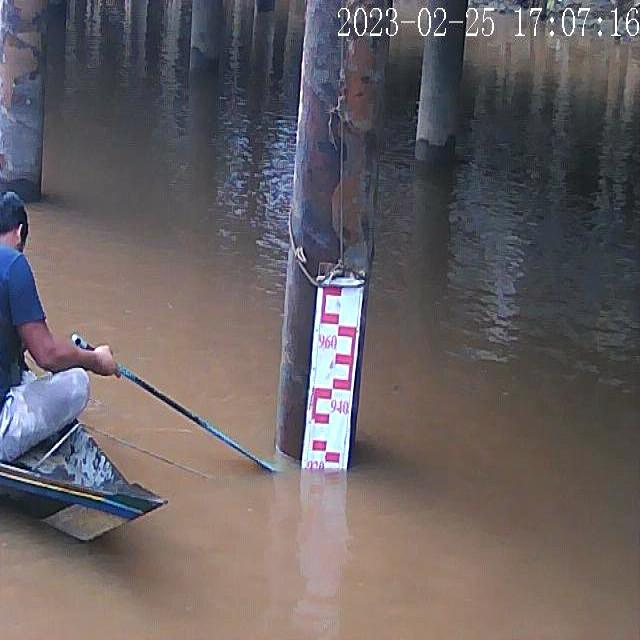ruler: (297, 262, 364, 478)
value: (317, 332, 339, 353), (328, 397, 350, 418)
